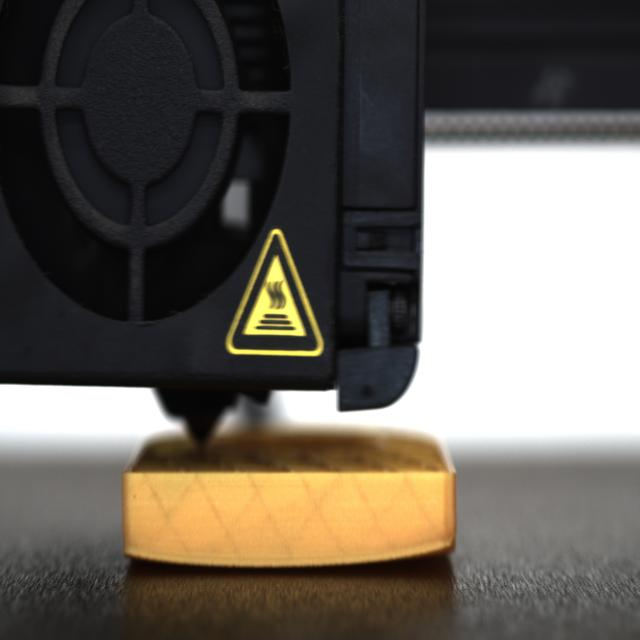Warping: (363, 536, 457, 570), (116, 543, 184, 576)
